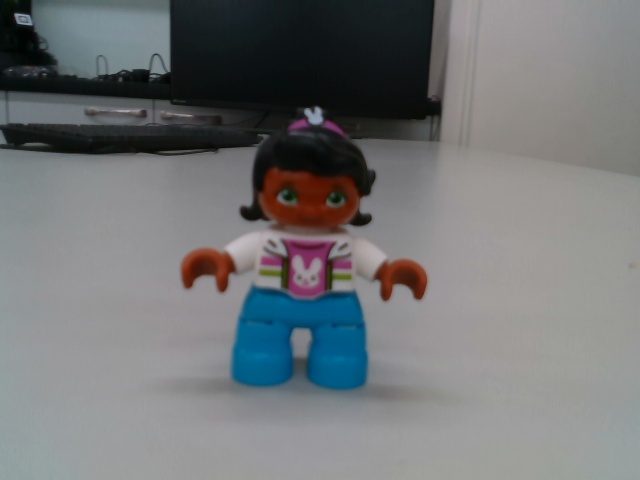people: (176, 108, 433, 392)
